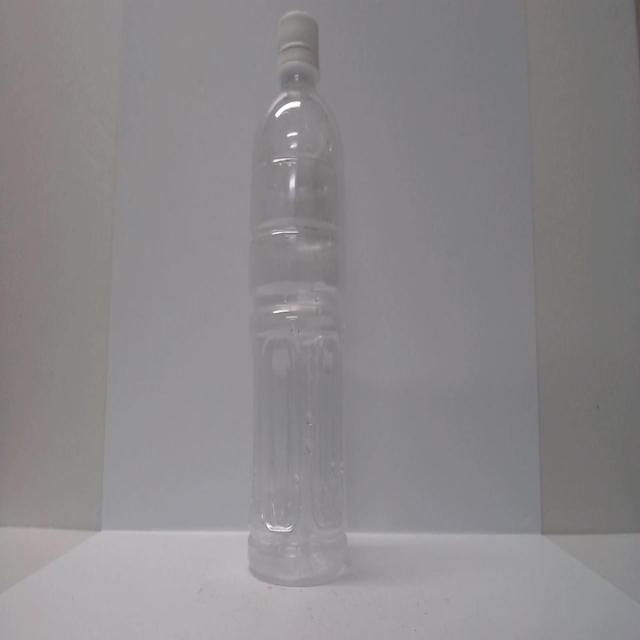bottle: (247, 6, 353, 600)
